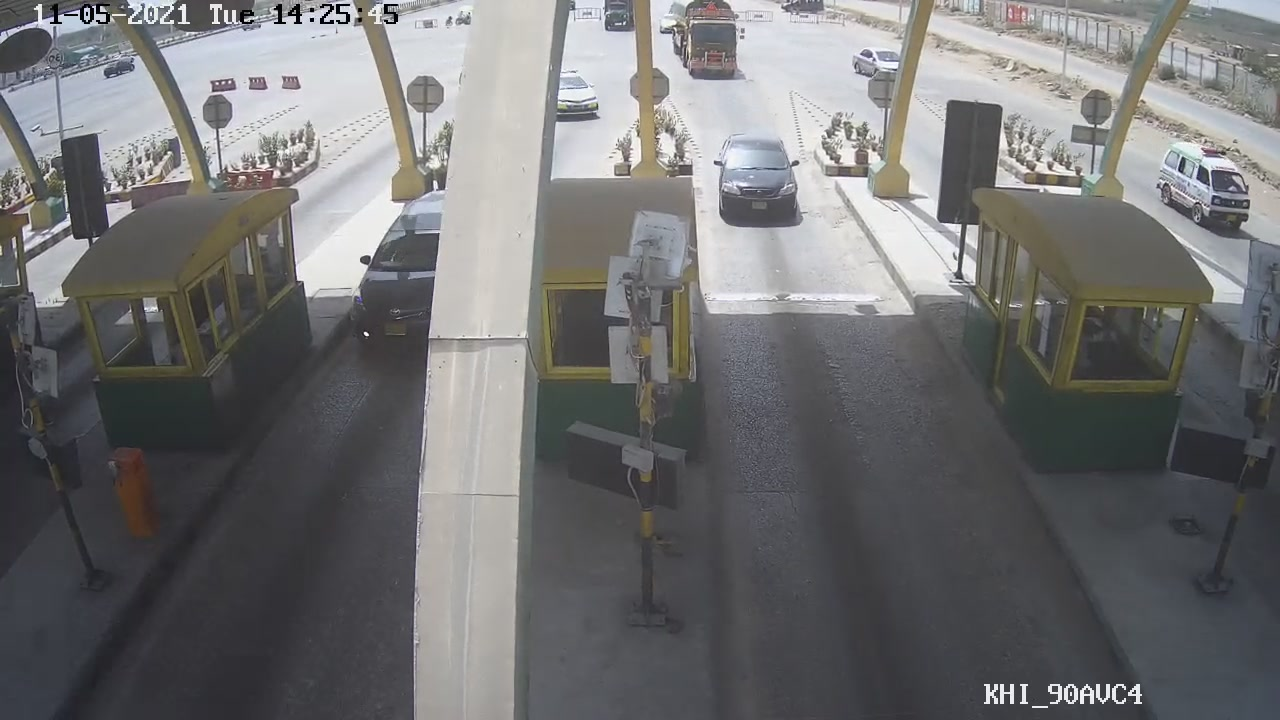F1: (706, 128, 804, 226)
